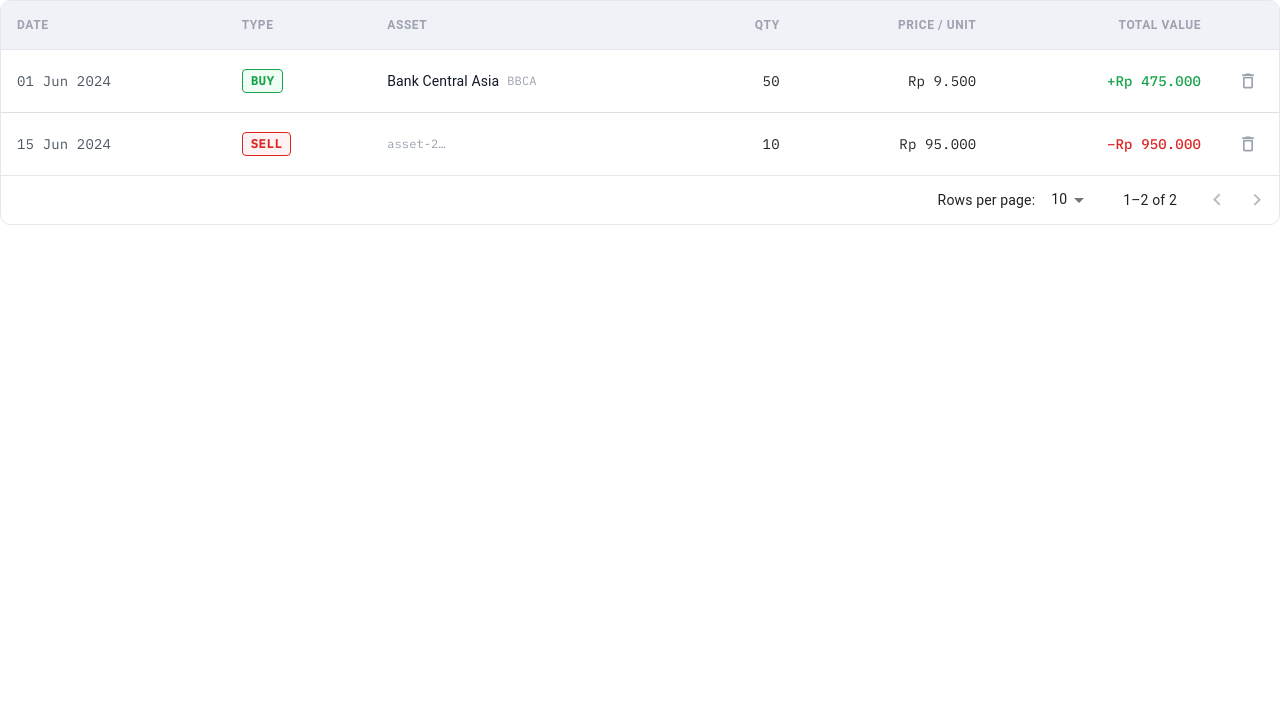
Test: TransactionTable — with data › opens the delete confirmation dialog when delete is clicked
This screenshot has width=1280, height=720.
// find icon buttons (no accessible label) – use the first delete icon button
Step 1. Click the button without text in the row of "01 Jun 2024" → (1248, 81), box [1233,66,1263,96]
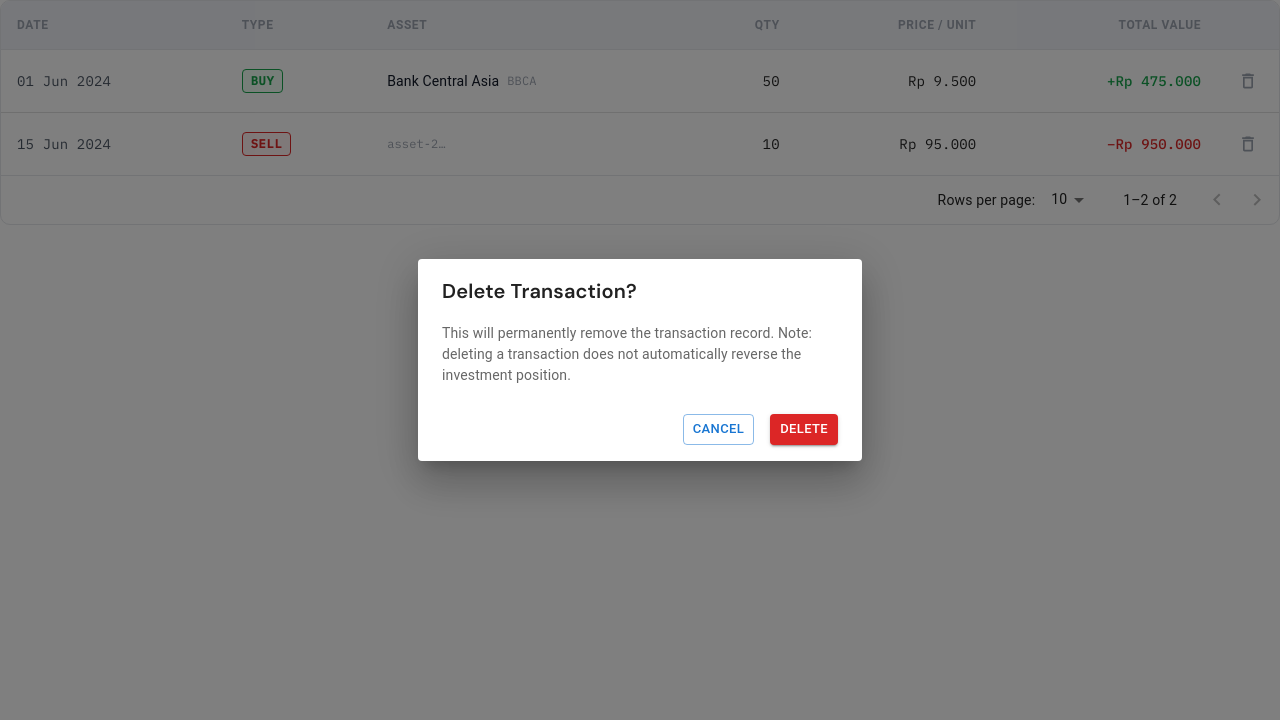
Expected: the heading "Delete Transaction?" is shown, [442,278,637,304]
